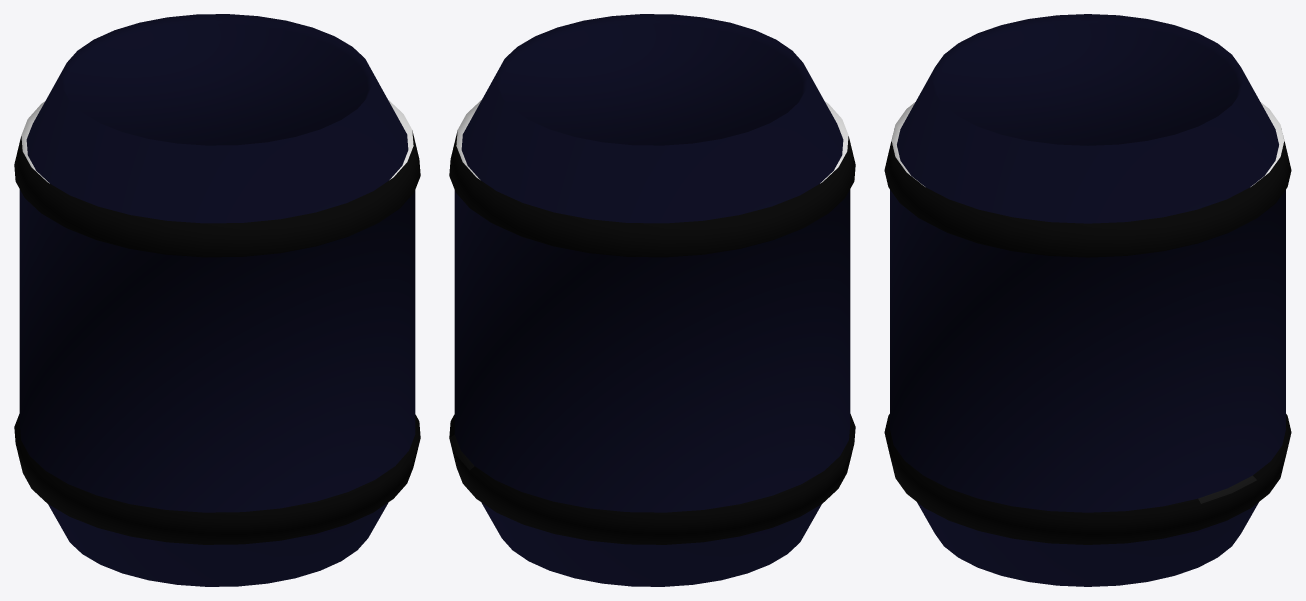
The model's file is Beczka.fbx.
The picture shows the model from 3 angles, left to right: view 1: azimuth 30°, elevation 25°; view 2: azimuth 150°, elevation 25°; view 3: azimuth 270°, elevation 25°; orthographic projection.
Parts seen in each view (by area): view 1: Walec; view 2: Walec; view 3: Walec.
Part boxes in pixels (box(x1,y1,x2,y2)): Walec: box(14, 14, 420, 586); Walec: box(449, 14, 855, 586); Walec: box(884, 14, 1291, 586).
Bounding box in the file's own units: 308 × 368 × 308.
